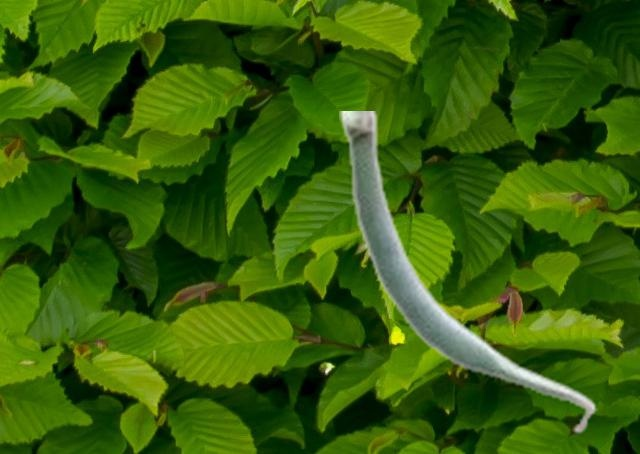french_bean: (339, 111, 596, 435)
